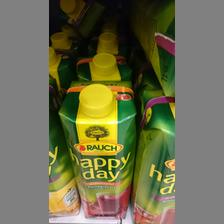Saft: (56, 79, 136, 217)
